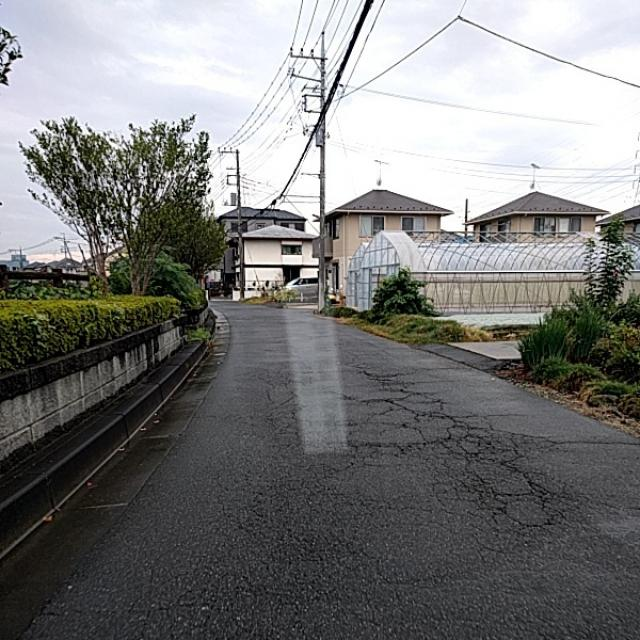pothole: (340, 401, 564, 581)
